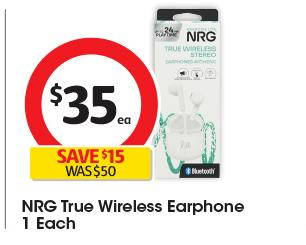description_block: (17, 191, 249, 236)
price_main: (15, 54, 160, 145)
product_image_block: (140, 6, 229, 193)
promo_text_block: (24, 147, 159, 183)
